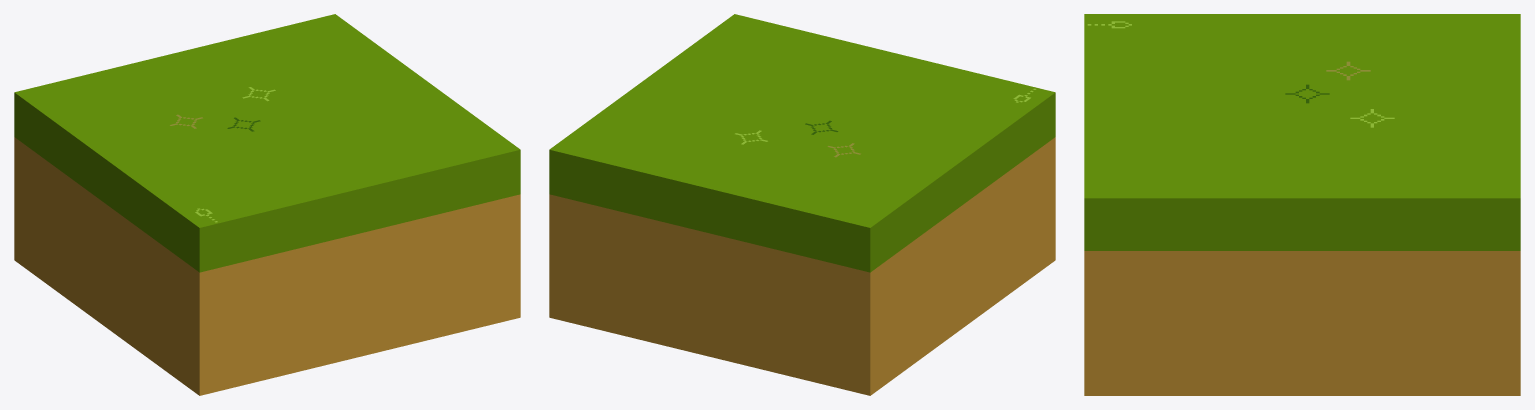
3 views of the same model, side by side, from view 1: azimuth 30°, elevation 25°; view 2: azimuth 150°, elevation 25°; view 3: azimuth 270°, elevation 25° (orthographic). The views are drawn at different scales.
Parts seen in each view (by area): view 1: 11N; view 2: 11N; view 3: 11N.
Boxes of the visible parts, <box> form: 11N: <box>14,14,520,395</box>; 11N: <box>549,14,1055,395</box>; 11N: <box>1084,14,1520,395</box>.
Bounding box in the file's own units: 12.8 × 6.4 × 12.8.
1 material, 1 textured.
